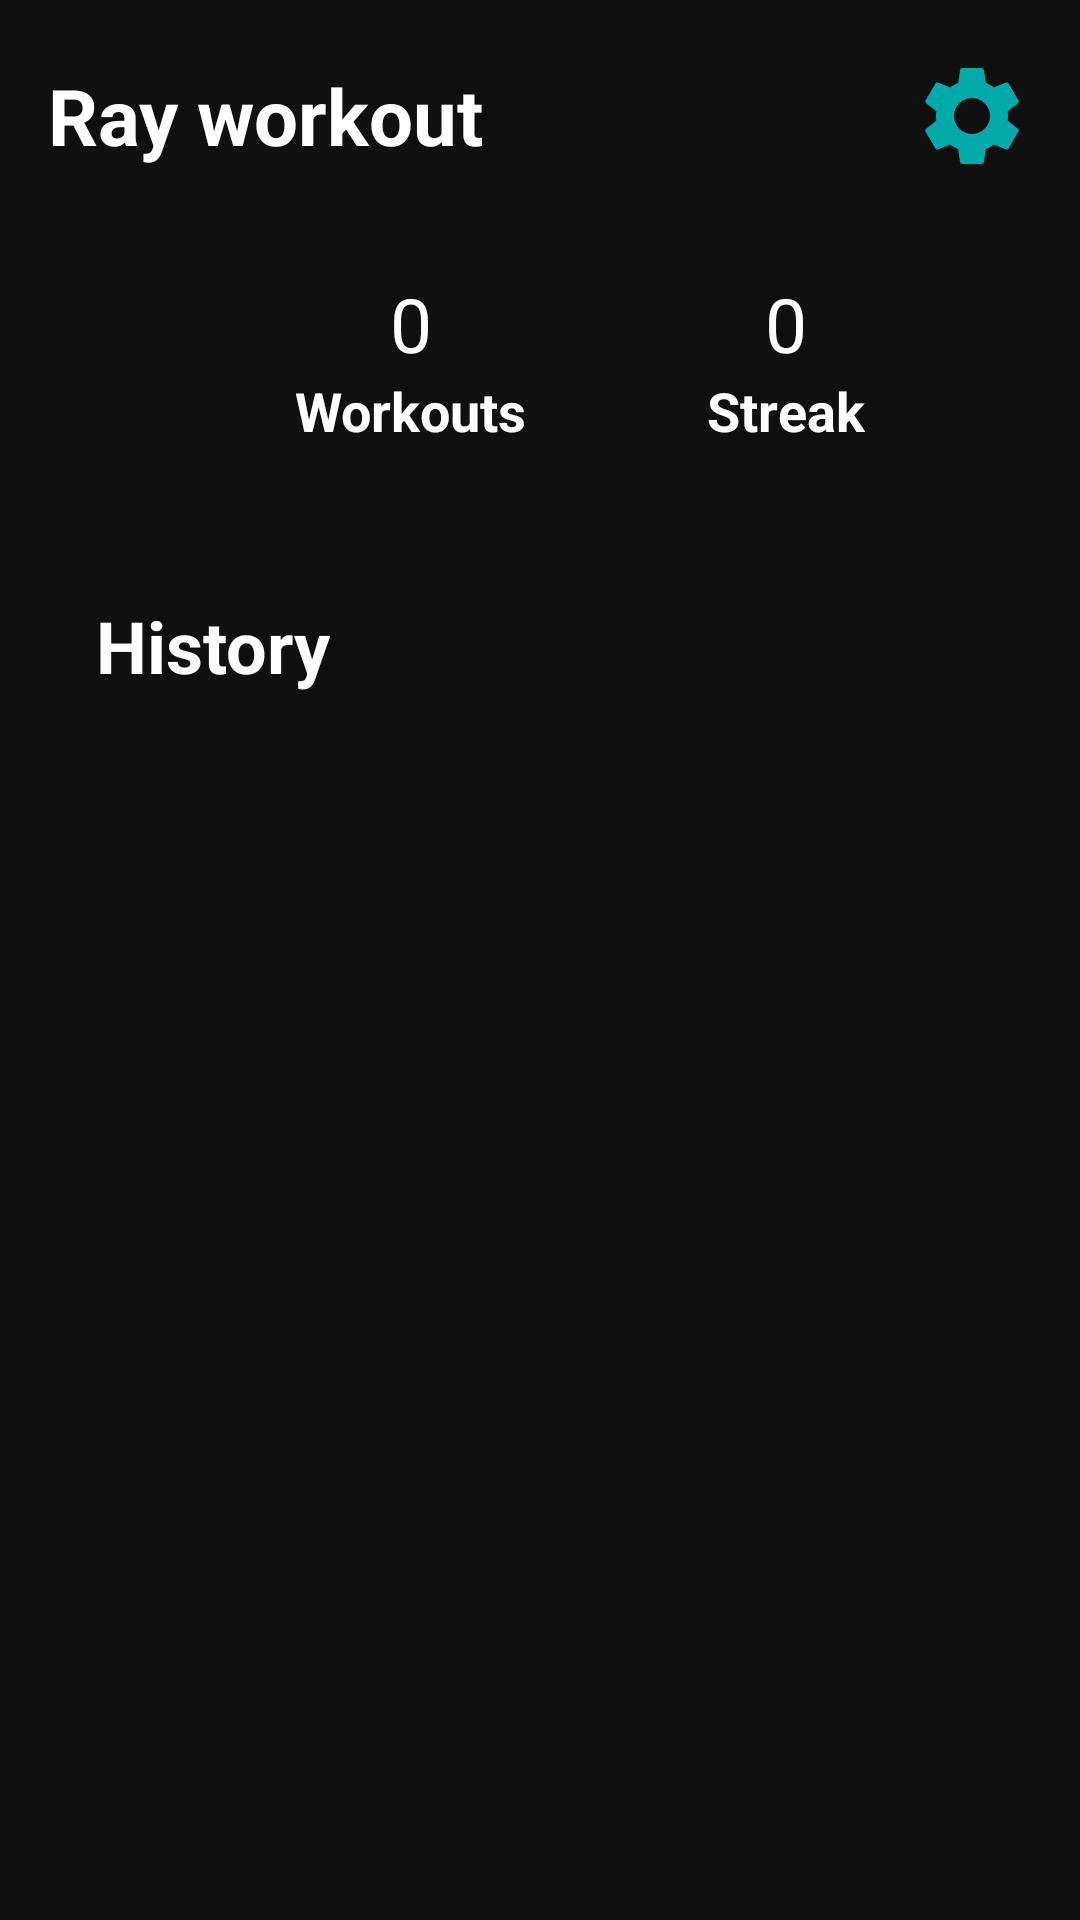

Icon click points for this 1080 × 1920 phone screenshot, format point (x, y):
settings: point (972, 116)
